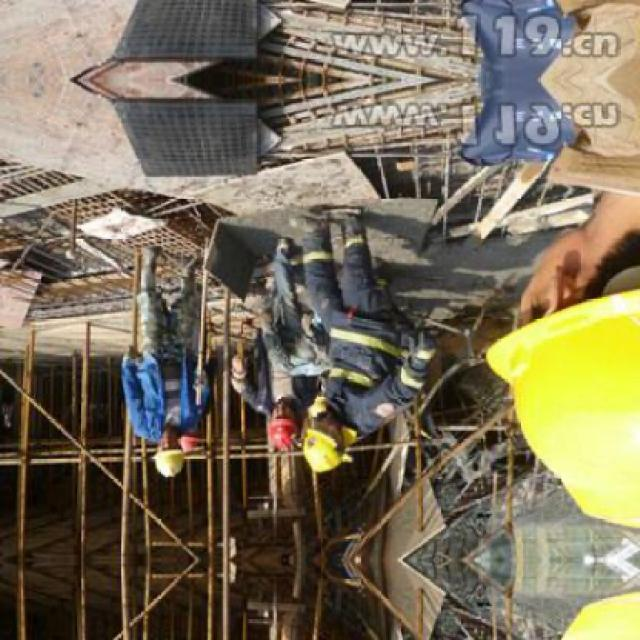con casco: (458, 199, 640, 505), (299, 398, 382, 474), (126, 412, 206, 488), (233, 389, 316, 459)
